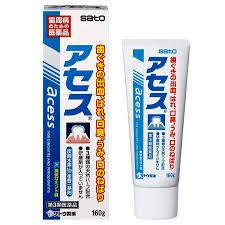toothpaste: (118, 33, 192, 219)
